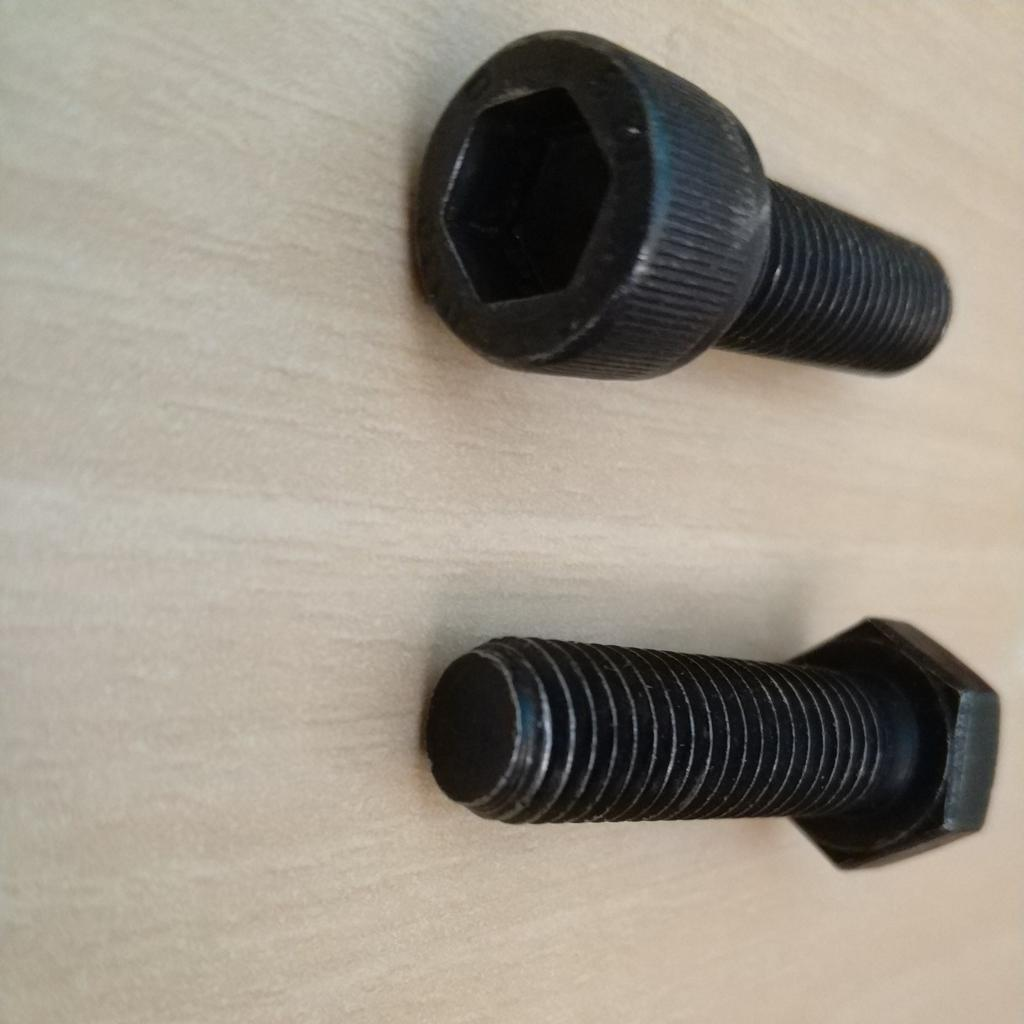screwtype1black: (402, 25, 954, 384)
screwtype2black: (417, 613, 1006, 887)
